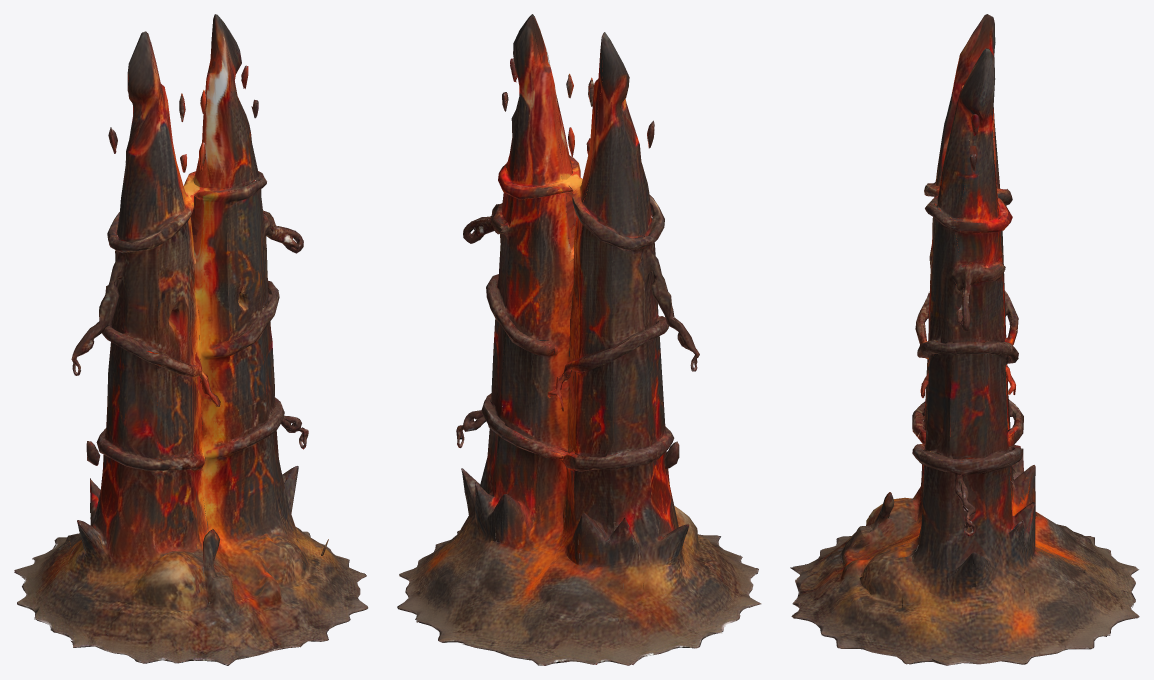
3 views of the same model, side by side, from view 1: azimuth 30°, elevation 25°; view 2: azimuth 150°, elevation 25°; view 3: azimuth 270°, elevation 25° (orthographic). The views are drawn at different scales.
Visible parts, largest first — view 1: B_Body; view 2: B_Body; view 3: B_Body.
Boxes of the visible parts, x1,y1,x2,y2 form: B_Body: [14, 14, 368, 665]; B_Body: [397, 14, 761, 665]; B_Body: [790, 14, 1139, 665].
Bounding box in the file's own units: 1.66 × 3 × 1.68.
